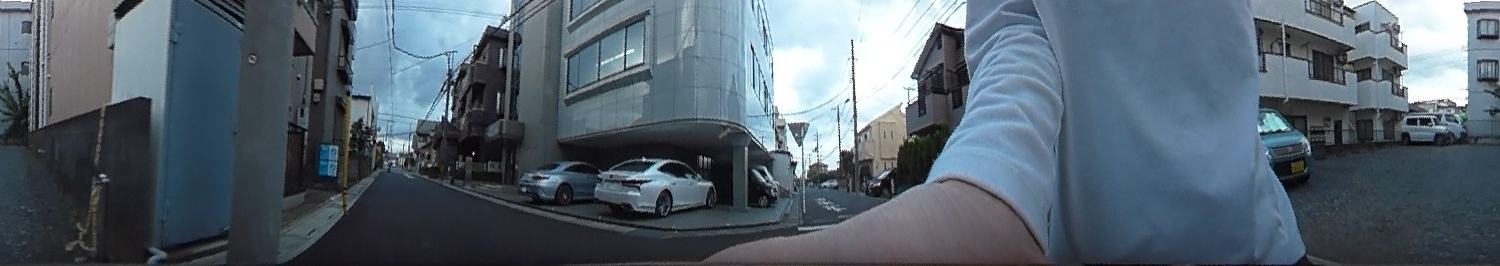difficult_person: (385, 155, 392, 172)
